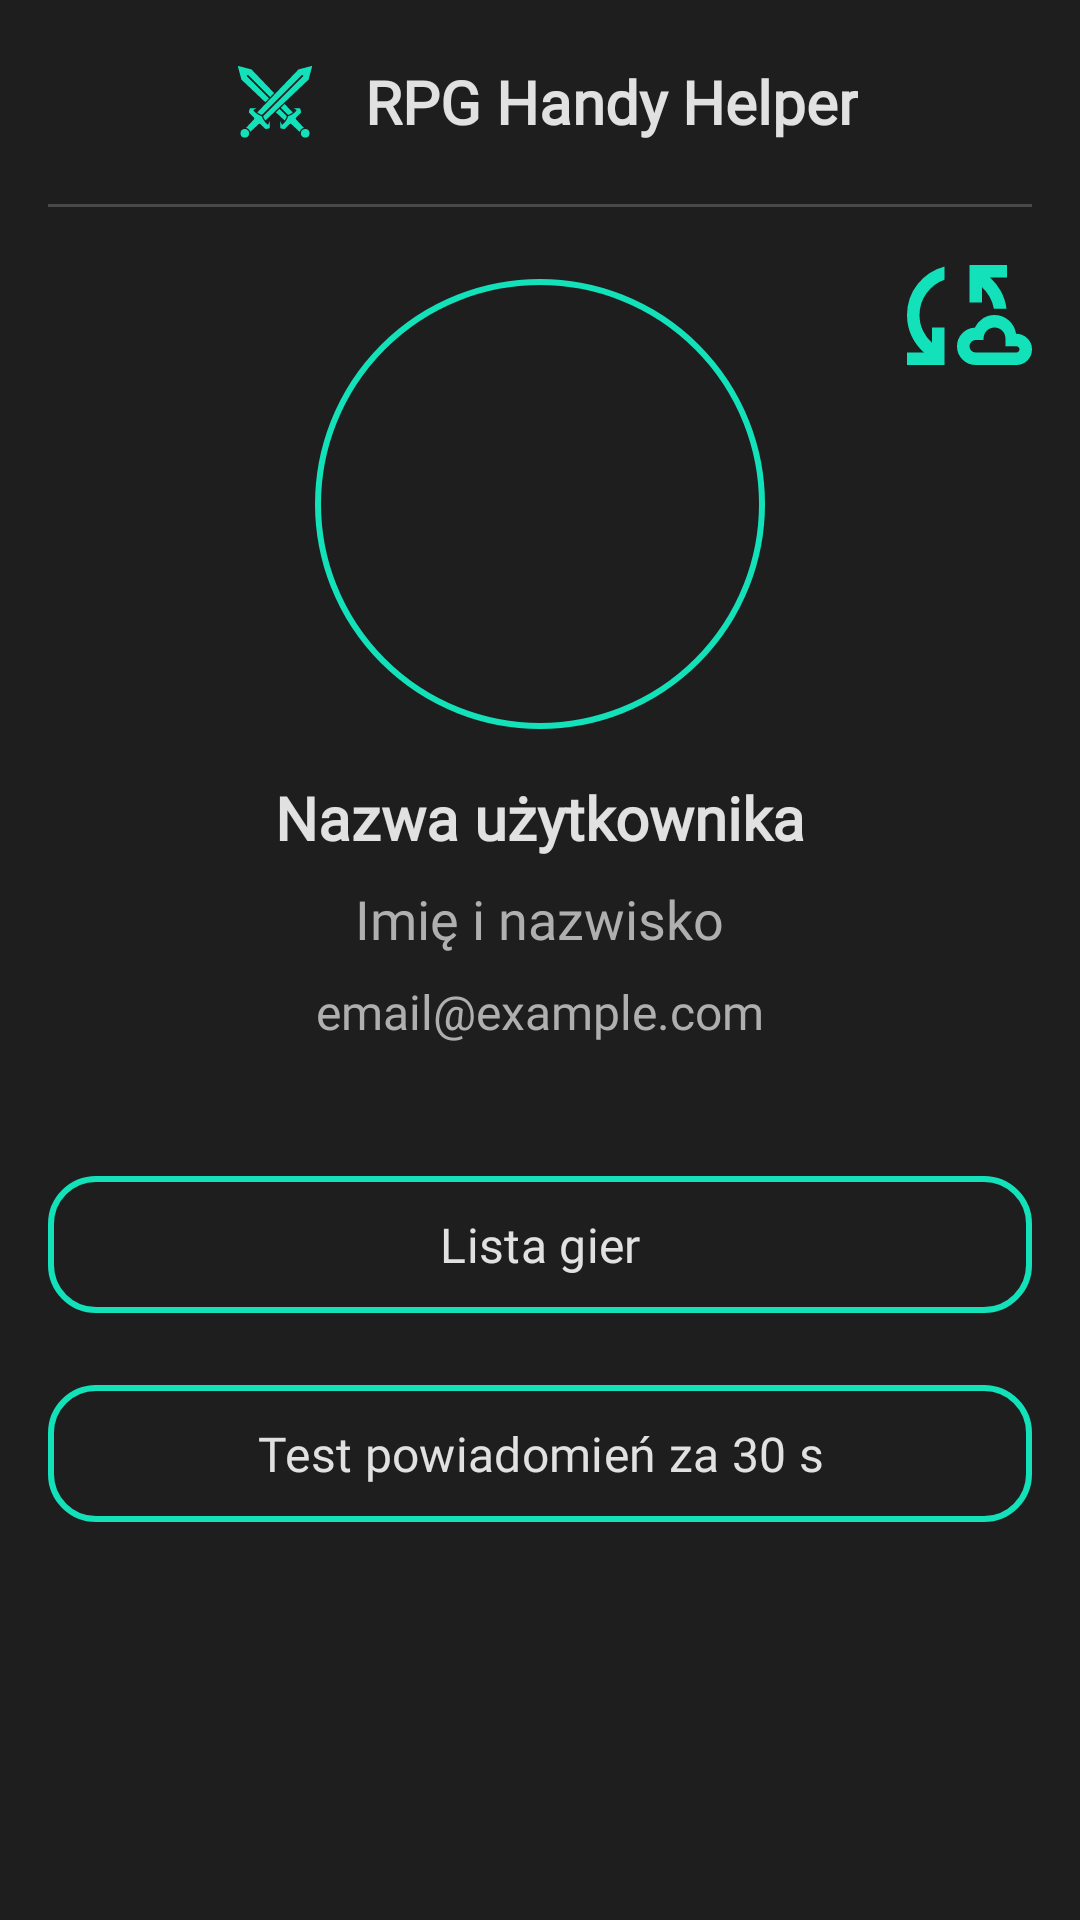

Locate icon controls on the screen. Image size 1080w x 1920h, boxes as (x1, y1, x2, y2).
Synchronizuj: (907, 265, 1032, 365)
